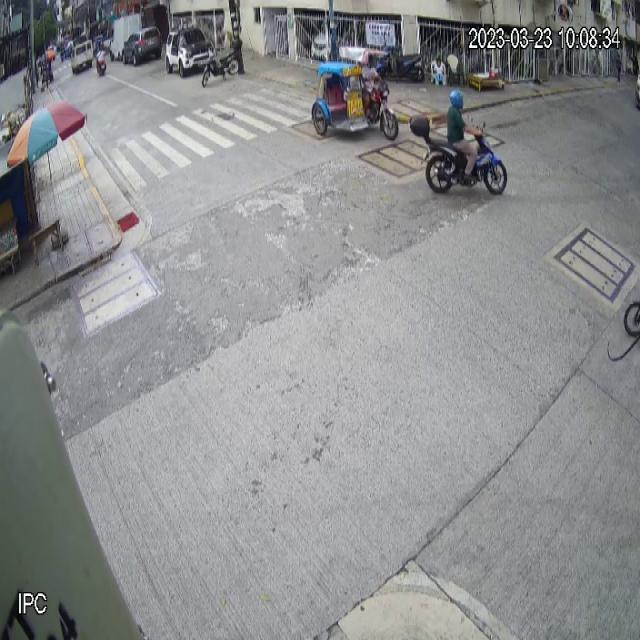Motorcycle: (410, 113, 510, 199), (202, 38, 243, 88)
Tricycle: (310, 45, 400, 142)
